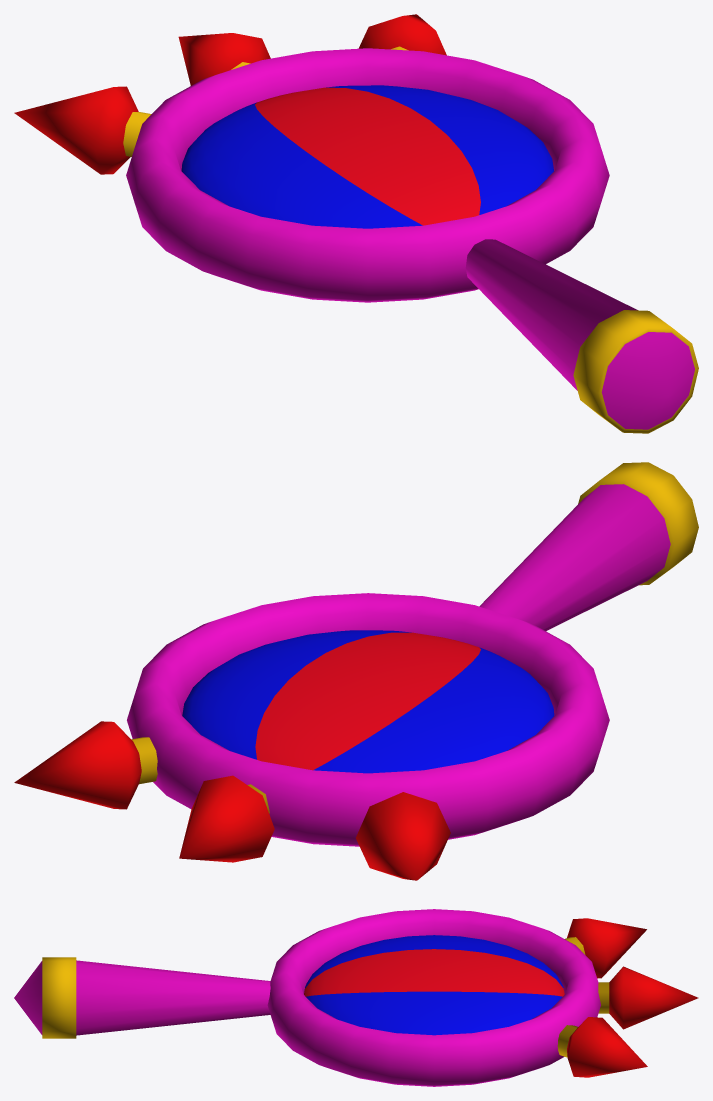
The model's file is LensOfTruth.fbx.
The picture shows the model from 3 angles, top to bottom: view 1: azimuth 30°, elevation 25°; view 2: azimuth 150°, elevation 25°; view 3: azimuth 270°, elevation 25°; orthographic projection. The views are drawn at different scales.
Parts seen in each view (by area): view 1: Cone.006; view 2: Cone.006; view 3: Cone.006.
Part boxes in pixels (box(x1,y1,x2,y2)): Cone.006: box(14, 14, 698, 433); Cone.006: box(14, 462, 698, 880); Cone.006: box(14, 909, 698, 1086).
Size of the model in its own units: 80.46 by 19.44 by 163.
